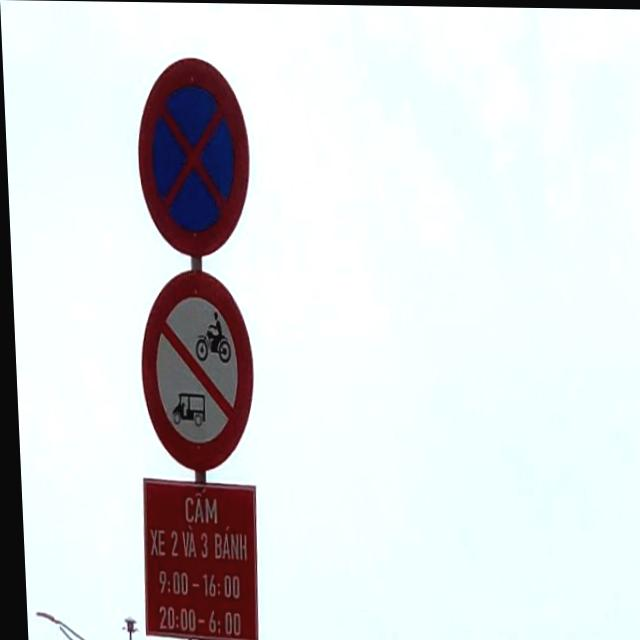Cam dung xe va do xe: (127, 46, 257, 267)
